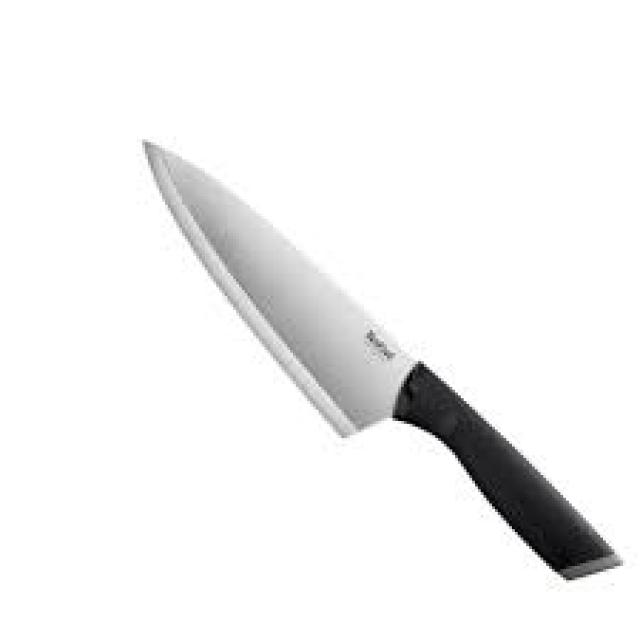Knife: (139, 137, 623, 580)
